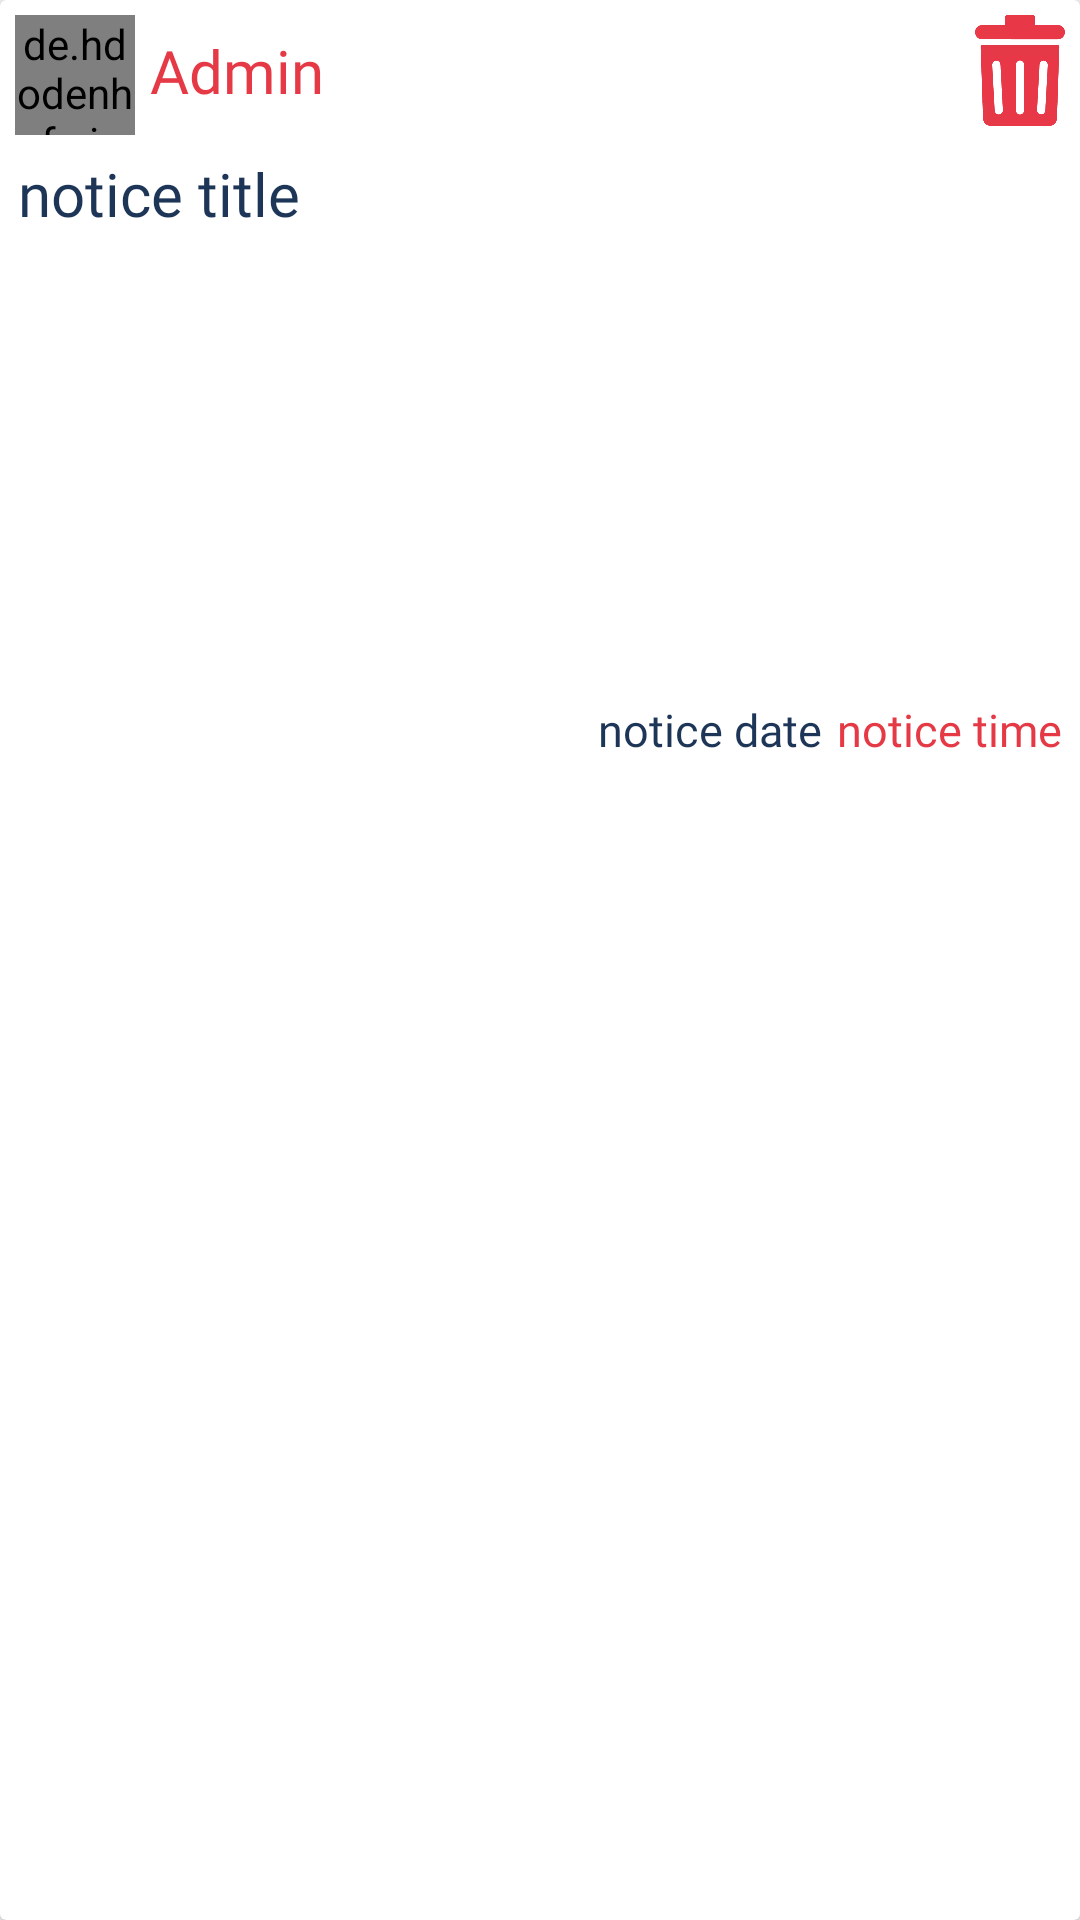

Named icons in this screenshot (1080px×1920px) and their bounding boxes, (x1=x1, y1=y1, x2=x2, y2=y2):
delete: (x1=975, y1=15, x2=1065, y2=126)
